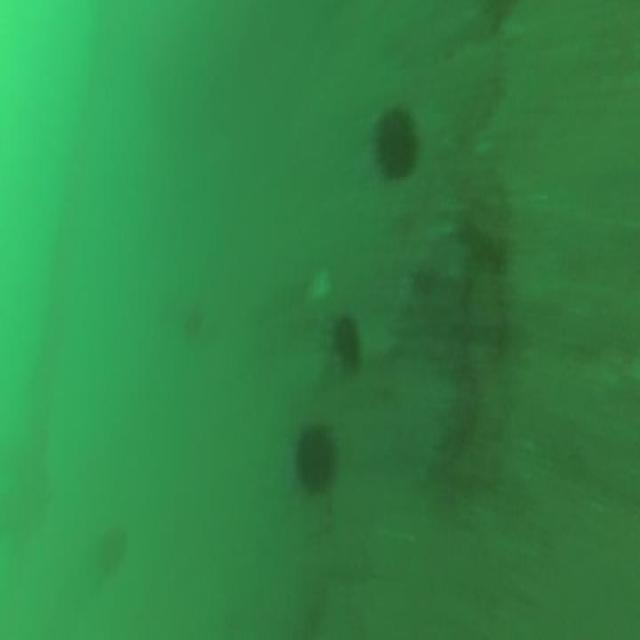echinus: (289, 406, 347, 504), (368, 98, 421, 186), (324, 308, 366, 384)
